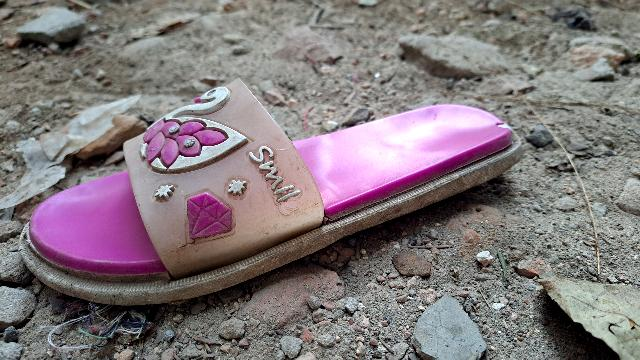sandal: (18, 89, 492, 298)
